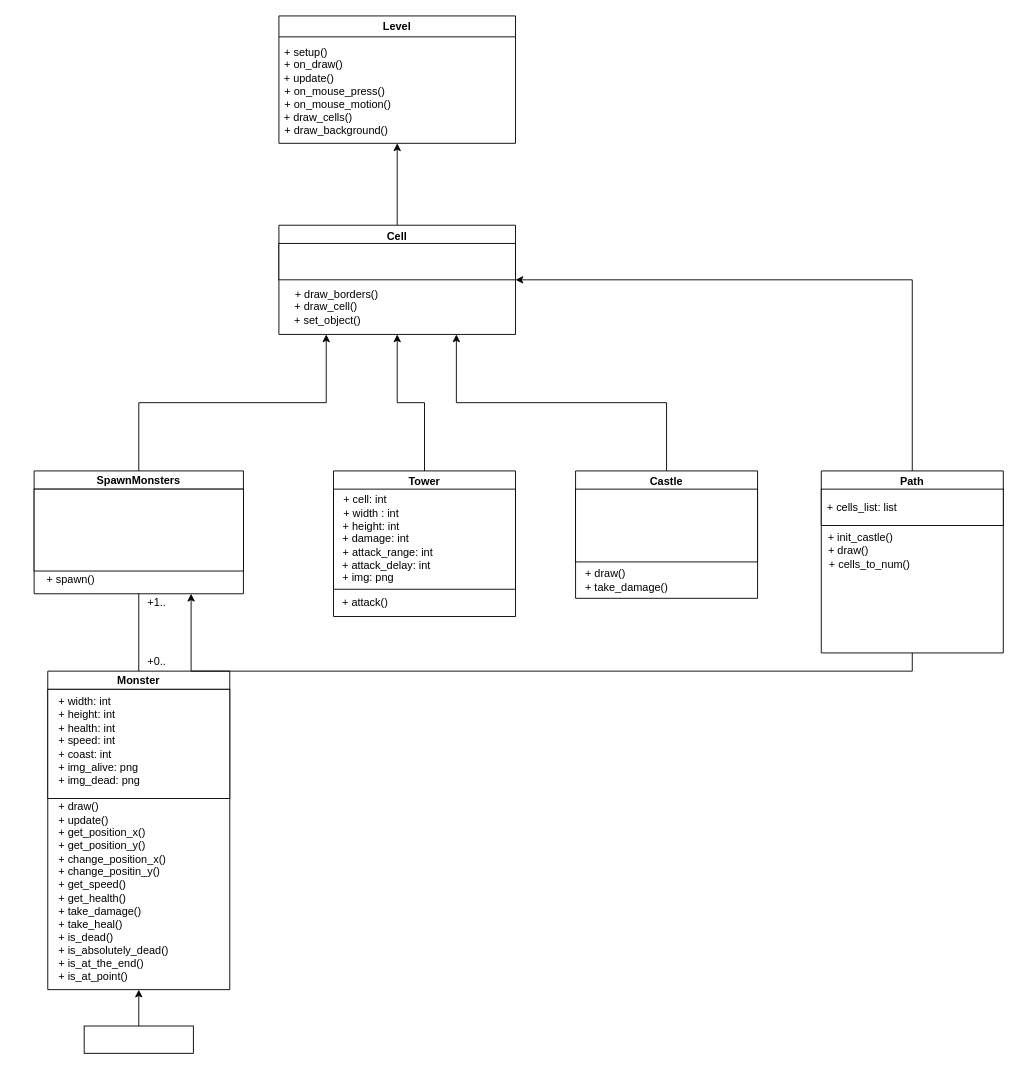
This 1019x1069 diagram has some shape labels left out. Each missing label, with the centre of its shape:
"+ name: string + path: list + start_time: int + end_time: int + quantity: int" belongs at pixel 138 529.
"+ num: int" belongs at pixel 397 261.
"+ width: int + height: int + health: int + img_alive: png" belongs at pixel 666 525.
"Pudge" belongs at pixel 138 1039.
